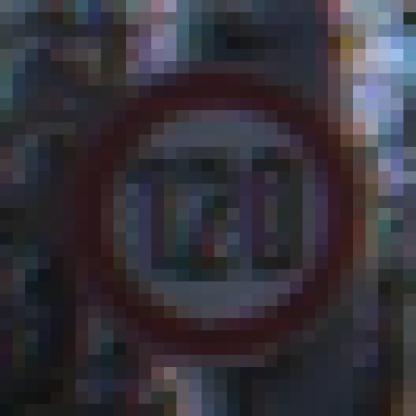Speed Limit -120-: (90, 93, 371, 353)
